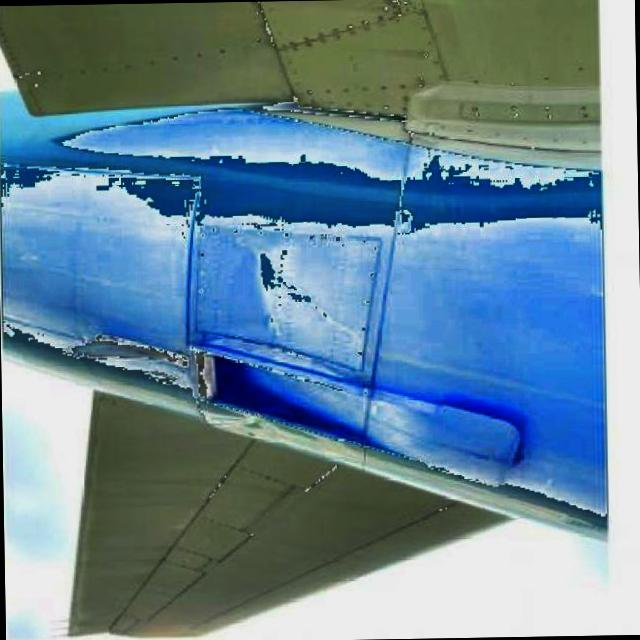dent: (232, 240, 314, 366)
